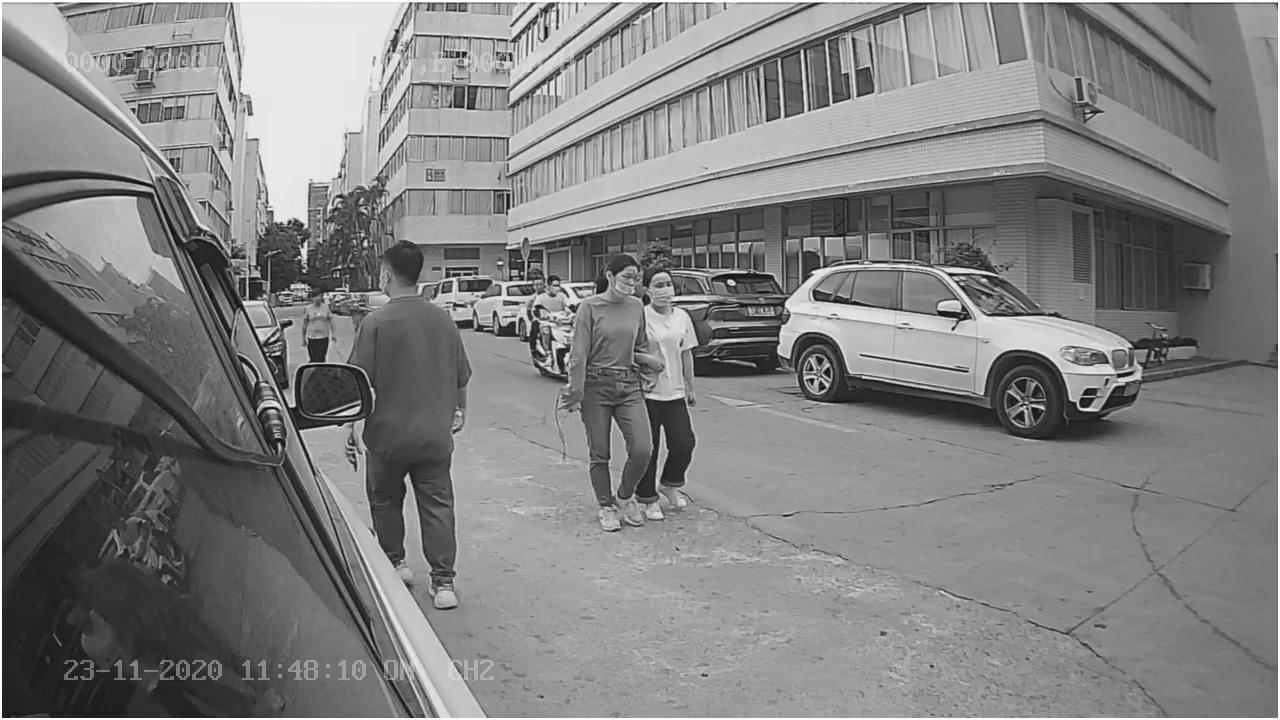person: (557, 245, 650, 533)
